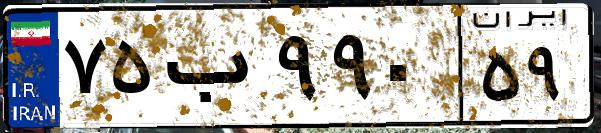0: (385, 28, 445, 110)
5: (475, 38, 525, 113), (110, 28, 158, 98)
7: (57, 26, 110, 100)
9: (270, 28, 330, 110), (330, 28, 385, 110), (525, 38, 570, 115)
ب: (158, 20, 270, 120)
